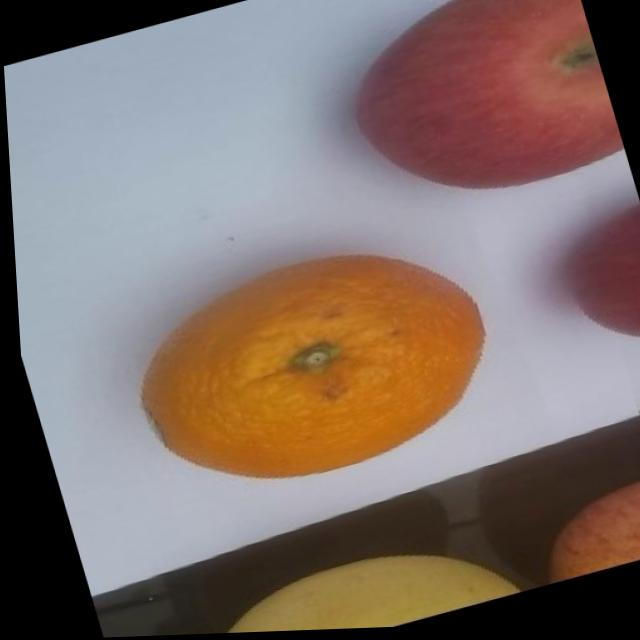Apple: (329, 0, 628, 228), (526, 469, 640, 587), (550, 215, 640, 363)
Orange: (106, 219, 514, 519)
